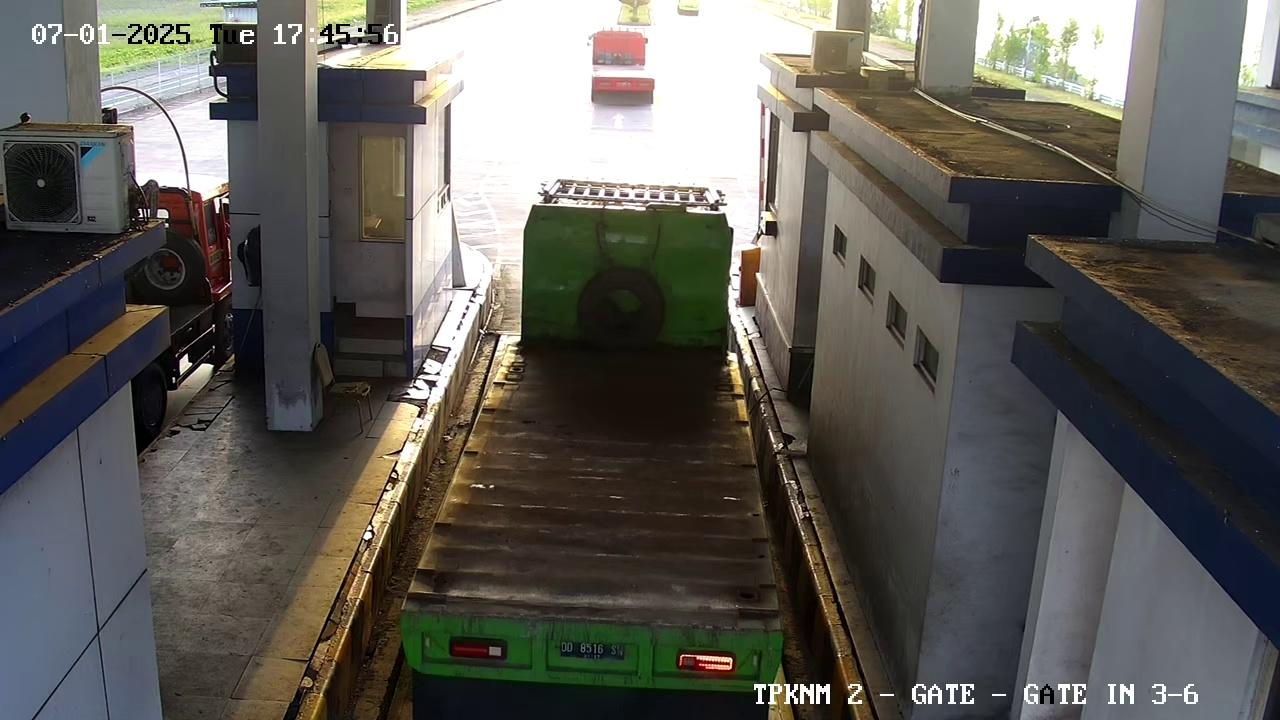plate_number: (550, 633, 633, 673)
